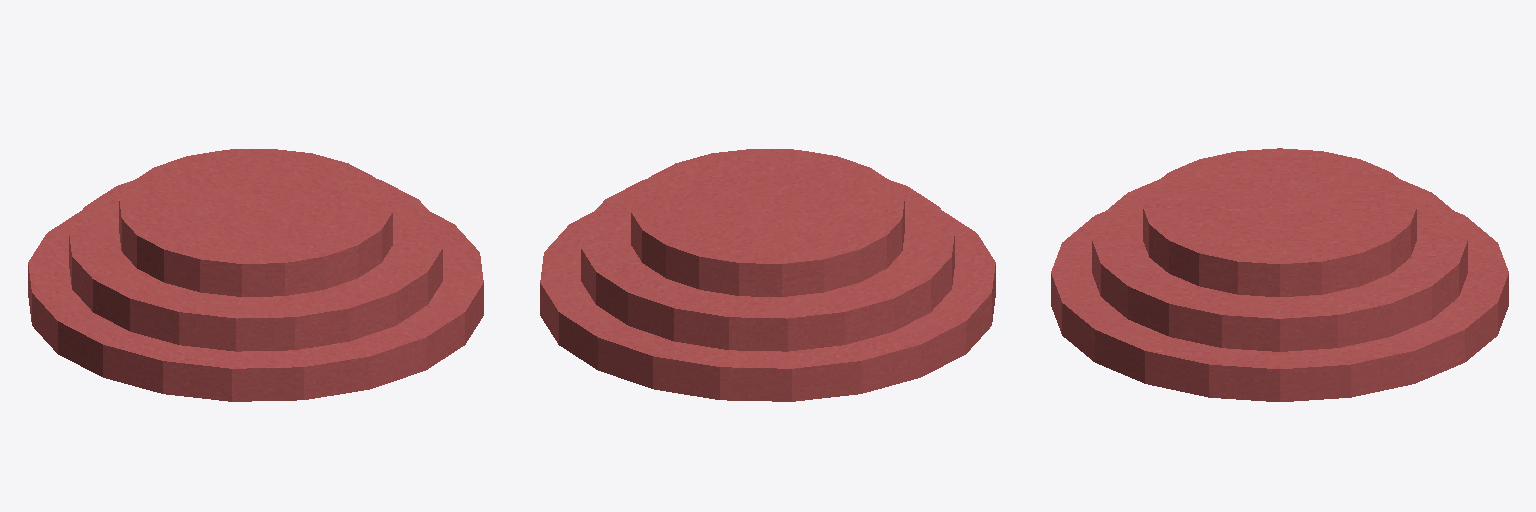
3 views of the same model, side by side, from view 1: azimuth 30°, elevation 25°; view 2: azimuth 150°, elevation 25°; view 3: azimuth 270°, elevation 25° (orthographic).
Visible parts, largest first — view 1: pCylinder1; view 2: pCylinder1; view 3: pCylinder1.
Boxes of the visible parts, box(x1,y1,x2,y2) form: pCylinder1: box(28, 149, 483, 401); pCylinder1: box(540, 149, 995, 401); pCylinder1: box(1051, 148, 1508, 401).
Size of the model in its own units: 5.78 by 1.38 by 5.78.
1 materials, 1 textured.